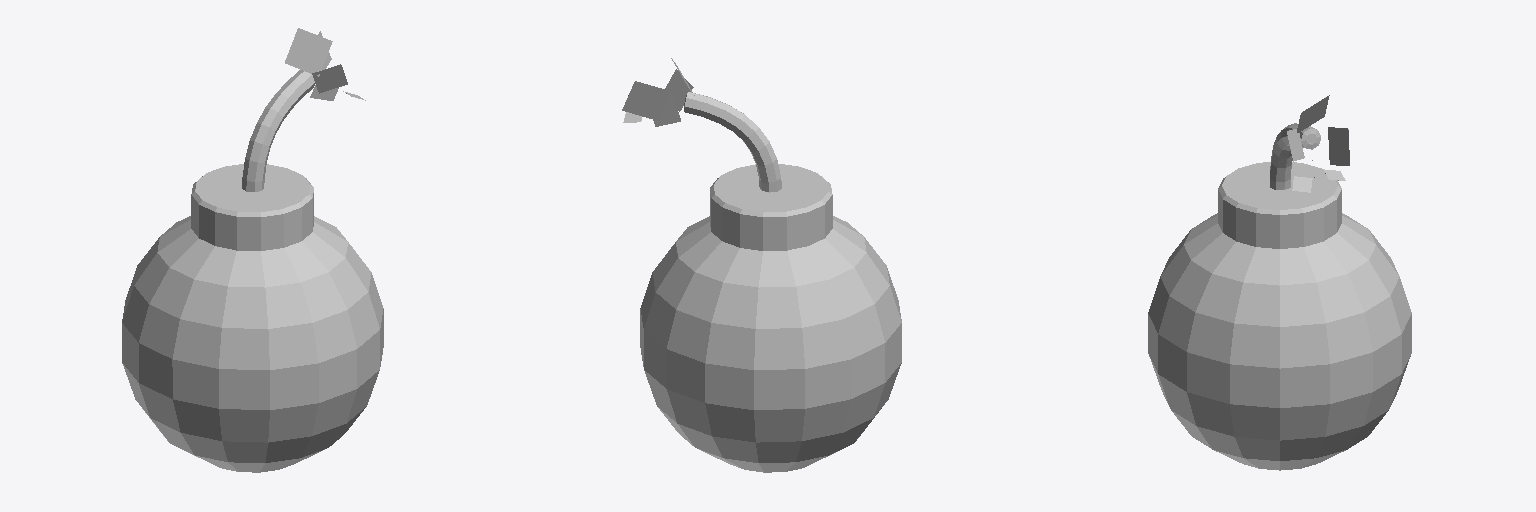
File: bomb_000029.obj
3 views of the same model, side by side, from view 1: azimuth 30°, elevation 25°; view 2: azimuth 150°, elevation 25°; view 3: azimuth 270°, elevation 25° (orthographic).
Visible parts, largest first — view 1: Sphere, NurbsPath, Plane_5.001_Mesh.001; view 2: Sphere, NurbsPath, Plane_5.001_Mesh.001; view 3: Sphere, Plane_5.001_Mesh.001, NurbsPath.
Boxes of the visible parts, x1,y1,x2,y2 form: Sphere: [122, 164, 383, 472]; NurbsPath: [242, 70, 315, 191]; Plane_5.001_Mesh.001: [285, 28, 365, 100]; Sphere: [640, 164, 901, 472]; NurbsPath: [684, 92, 781, 192]; Plane_5.001_Mesh.001: [622, 58, 694, 126]; Sphere: [1148, 162, 1411, 470]; Plane_5.001_Mesh.001: [1287, 95, 1349, 192]; NurbsPath: [1270, 123, 1320, 189].
Bounding box in the file's own units: 0.7942 × 1.25 × 0.7726.